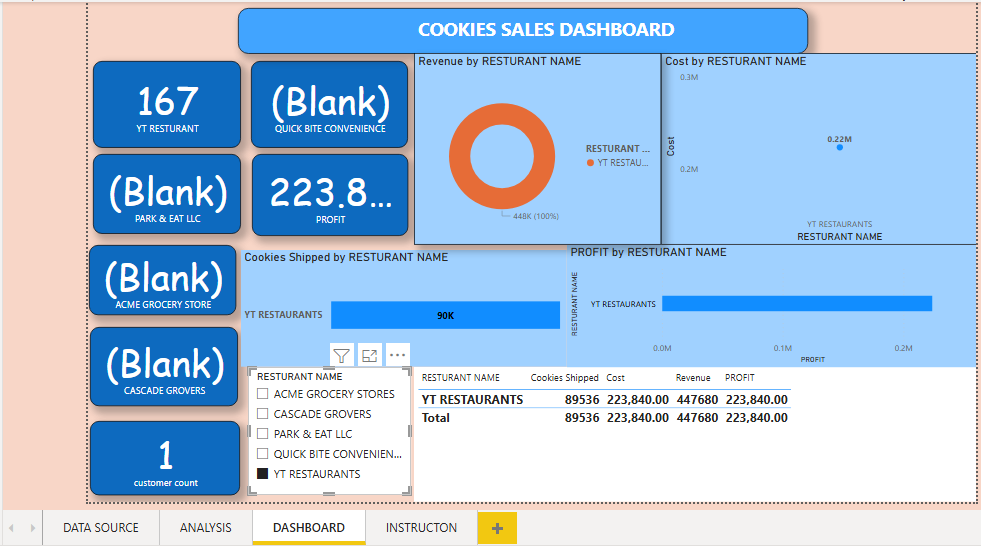

The page's visual inventory and layout, read from the dashboard file:
{"tool":"powerbi","page":{"name":"DASHBOARD","canvas":[1280,720],"ordinal":2},"visuals":[{"type":"card","fields":{"Values":["Order_Data.head count"]},"box":[234.7,85,226.1,125.3],"z":0},{"type":"card","fields":{"Values":["Order_Data.head count"]},"box":[7.2,85,213.1,125.3],"z":1000},{"type":"card","fields":{"Values":["Order_Data.head count"]},"box":[7.2,218.9,213.1,115.2],"z":2000},{"type":"card","fields":{"Values":["Order_Data.head count"]},"box":[1.4,349.9,211.7,100.8],"z":3000},{"type":"card","fields":{"Values":["Order_Data.head count"]},"box":[2.9,468,213.1,113.8],"z":4000},{"type":"textbox","box":[216.7,8.4,821.4,65.5],"z":5000},{"type":"card","fields":{"Values":["Sum(Order_Data.PROFIT)"]},"box":[236.2,218.9,224.6,118.1],"z":6000},{"type":"card","fields":{"Values":["Order_Data.customer count"]},"box":[2.9,603.4,216,106.6],"z":7000},{"type":"tableEx","fields":{"Values":["Order_Data.RESTURANT NAME","Sum(Order_Data.Cookies Shipped)","Sum(Order_Data.Cost)","Sum(Order_Data.Revenue)","Sum(Order_Data.PROFIT)"]},"box":[469.4,525.6,810.7,194.4],"z":8000},{"type":"areaChart","fields":{"Category":["Order_Data.RESTURANT NAME"],"Y":["Sum(Order_Data.Cost)"]},"box":[825.1,73.4,455,276.5],"z":9000},{"type":"clusteredBarChart","fields":{"Category":["Order_Data.RESTURANT NAME"],"Y":["Sum(Order_Data.PROFIT)"]},"box":[689.8,349.9,590.4,175.7],"z":10000},{"type":"funnel","fields":{"Category":["Order_Data.RESTURANT NAME"],"Y":["Sum(Order_Data.Cookies Shipped)"]},"box":[220.3,357.1,469.4,168.5],"z":11000},{"type":"donutChart","fields":{"Category":["Order_Data.RESTURANT NAME"],"Y":["Sum(Order_Data.Revenue)"]},"box":[469.4,73.4,355.7,276.5],"z":12000},{"type":"slicer","fields":{"Values":["Order_Data.RESTURANT NAME"]},"box":[230.4,525.6,234.7,184.3],"z":13000}]}

Visuals, with their boxes on the page's 1280x720 design canvas (x1, y1, x2, y2). These are canvas units, not pixel positions in the 981x546 screenshot, which may show the page scaled, cropped or inside an application window:
card - Order_Data.head count: 235 85 461 210
card - Order_Data.head count: 7 85 220 210
card - Order_Data.head count: 7 219 220 334
card - Order_Data.head count: 1 350 213 451
card - Order_Data.head count: 3 468 216 582
textbox: 217 8 1038 74
card - Sum(Order_Data.PROFIT): 236 219 461 337
card - Order_Data.customer count: 3 603 219 710
tableEx - Order_Data.RESTURANT NAME x Sum(Order_Data.Cookies Shipped): 469 526 1280 720
areaChart - Order_Data.RESTURANT NAME x Sum(Order_Data.Cost): 825 73 1280 350
clusteredBarChart - Order_Data.RESTURANT NAME x Sum(Order_Data.PROFIT): 690 350 1280 526
funnel - Order_Data.RESTURANT NAME x Sum(Order_Data.Cookies Shipped): 220 357 690 526
donutChart - Order_Data.RESTURANT NAME x Sum(Order_Data.Revenue): 469 73 825 350
slicer - Order_Data.RESTURANT NAME: 230 526 465 710
